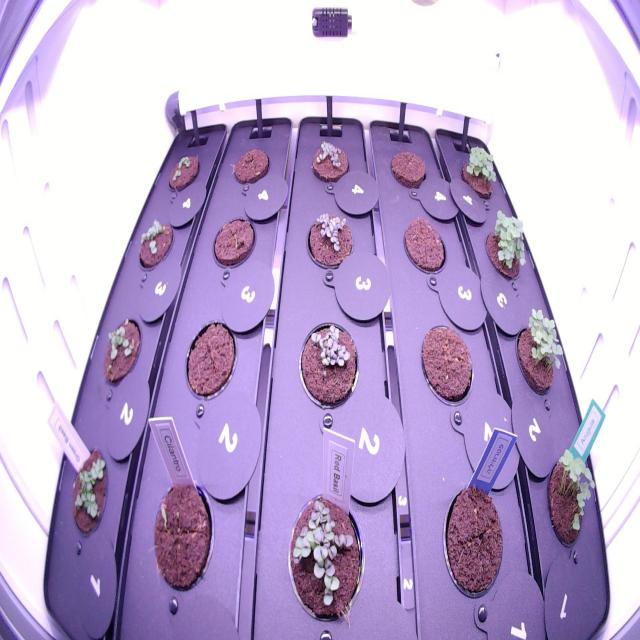germination: (283, 484, 372, 629), (506, 296, 574, 410), (294, 310, 364, 420), (540, 436, 600, 556), (61, 438, 115, 544), (472, 201, 534, 288), (299, 203, 358, 279), (94, 312, 148, 390), (457, 130, 504, 206), (306, 132, 353, 194), (133, 212, 178, 276), (162, 144, 203, 198)
pod: (141, 469, 219, 598), (436, 471, 508, 607), (175, 312, 242, 416), (412, 316, 479, 416), (399, 207, 449, 283), (208, 206, 258, 276), (384, 143, 432, 196), (228, 138, 274, 192)
